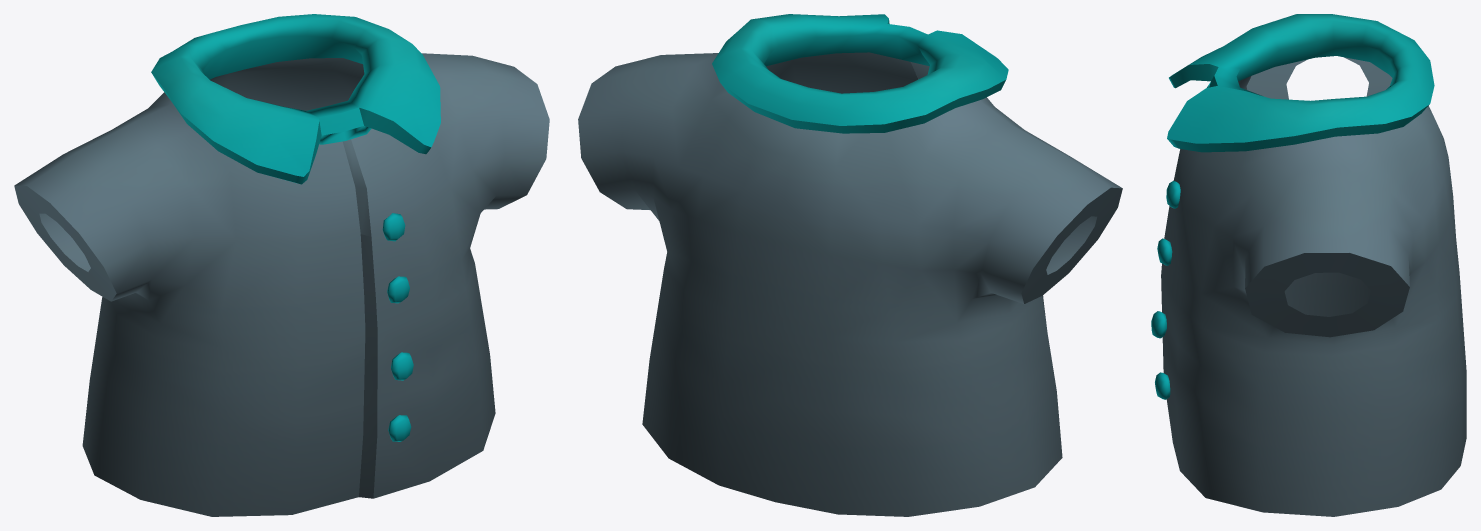
File: Outwear_26.glb
3 views of the same model, side by side, from view 1: azimuth 30°, elevation 25°; view 2: azimuth 150°, elevation 25°; view 3: azimuth 270°, elevation 25° (orthographic). The views are drawn at different scales.
Visible parts, largest first — view 1: Outwear_26; view 2: Outwear_26; view 3: Outwear_26.
Boxes of the visible parts, left/top/right/bottom form: Outwear_26: left=14, top=14, right=549, bottom=516; Outwear_26: left=578, top=14, right=1122, bottom=516; Outwear_26: left=1151, top=14, right=1466, bottom=516.
Bounding box in the file's own units: 0.3556 × 0.2741 × 0.2054.
1 material, 1 textured.
